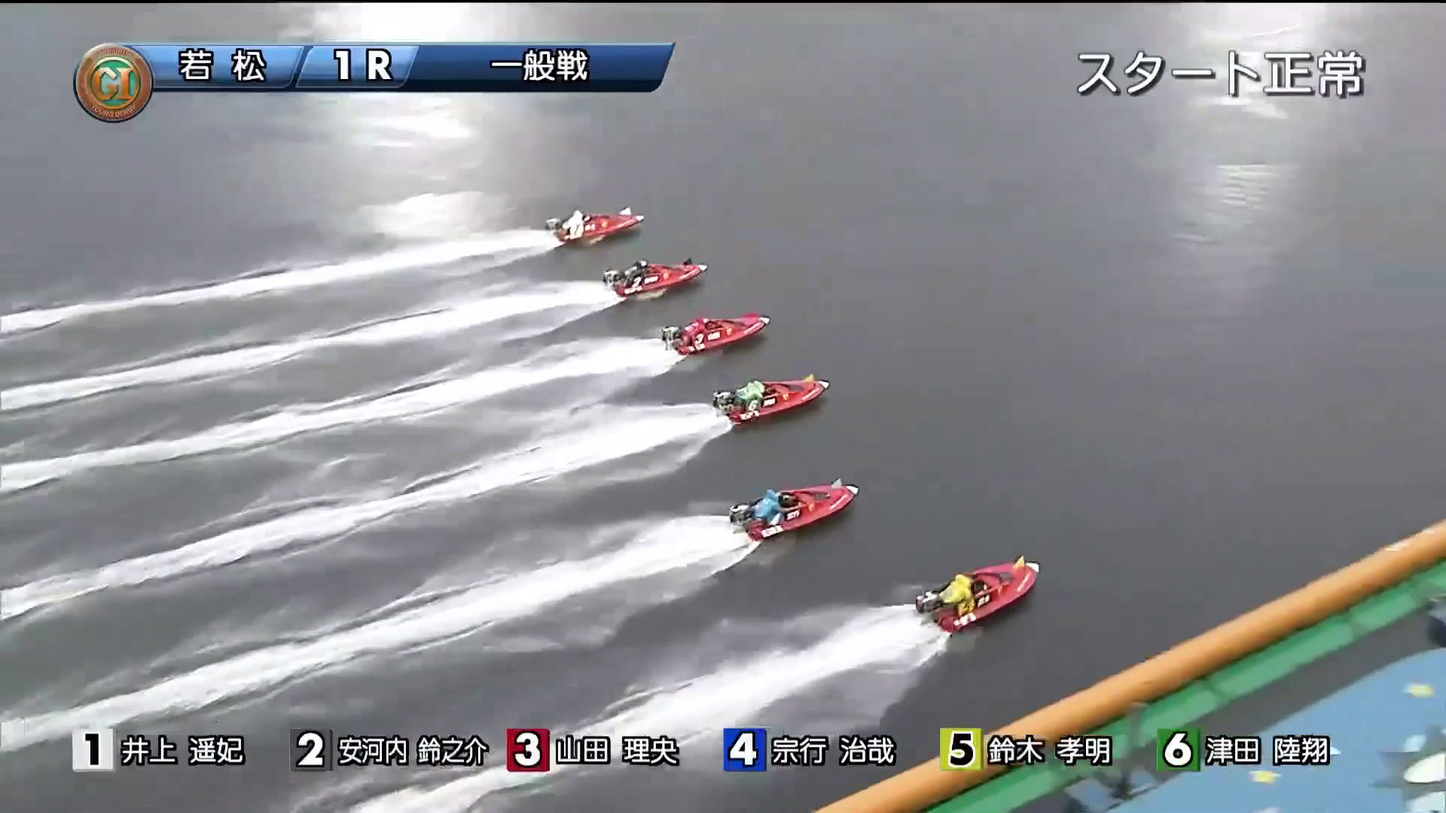１号艇: (553, 206, 629, 245)
２号艇: (595, 254, 695, 291)
３号艇: (653, 310, 770, 351)
４号艇: (710, 378, 815, 421)
５号艇: (723, 485, 843, 540)
６号艇: (890, 569, 1035, 626)
